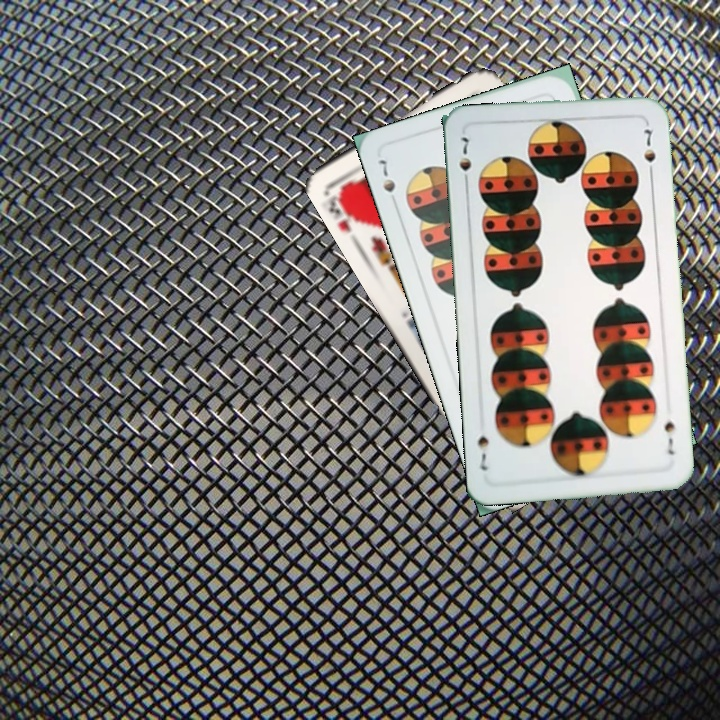HK: (319, 180, 366, 235)
S7: (374, 155, 400, 211), (455, 132, 474, 189), (660, 414, 677, 457)
